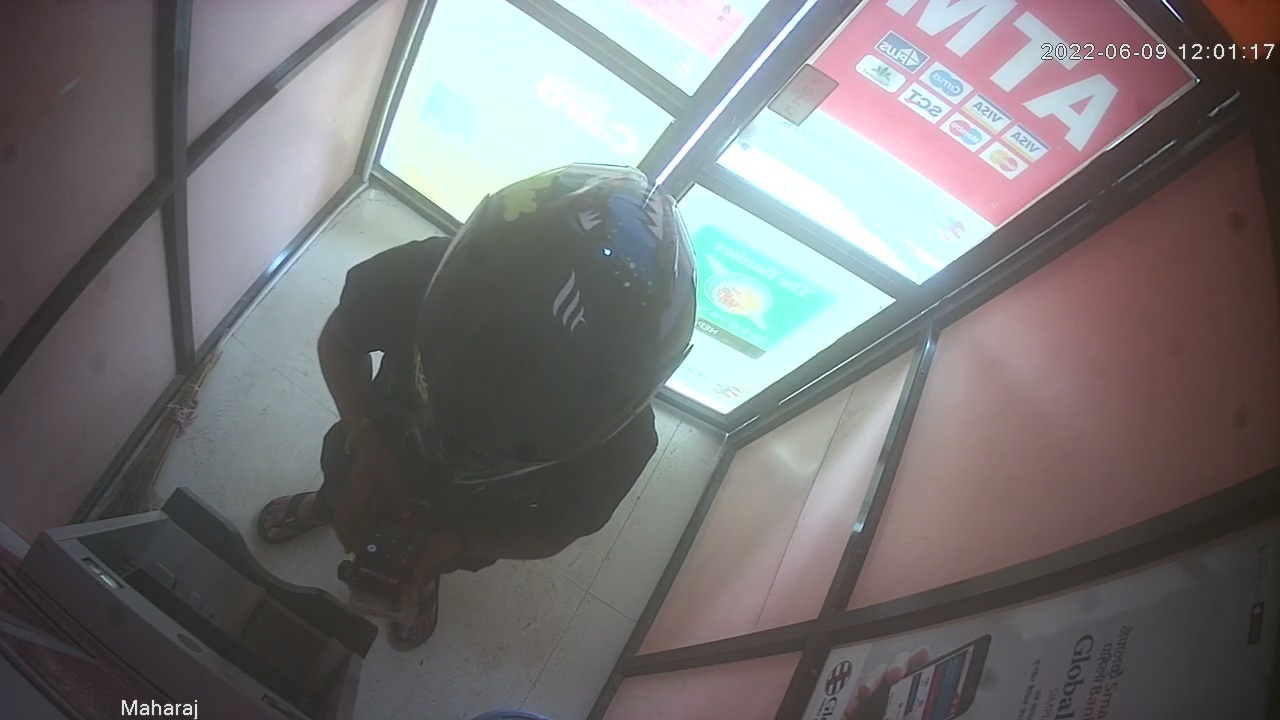helmet: (404, 160, 697, 489)
person: (256, 160, 699, 654)
